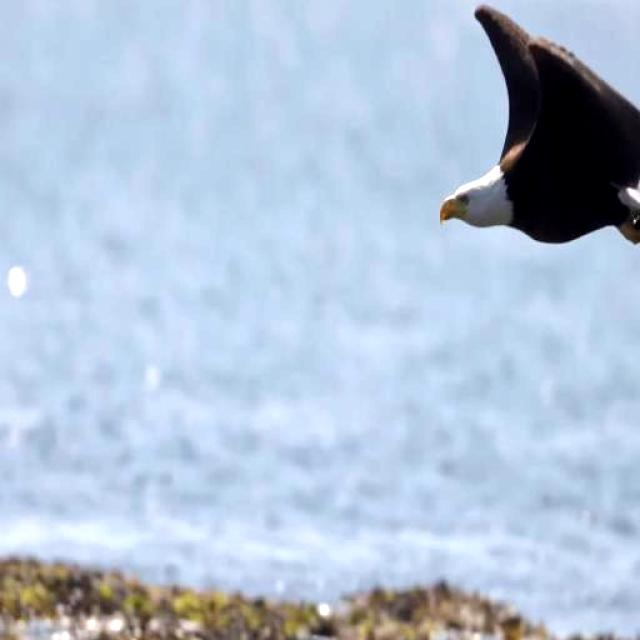airplane: (415, 0, 640, 294)
